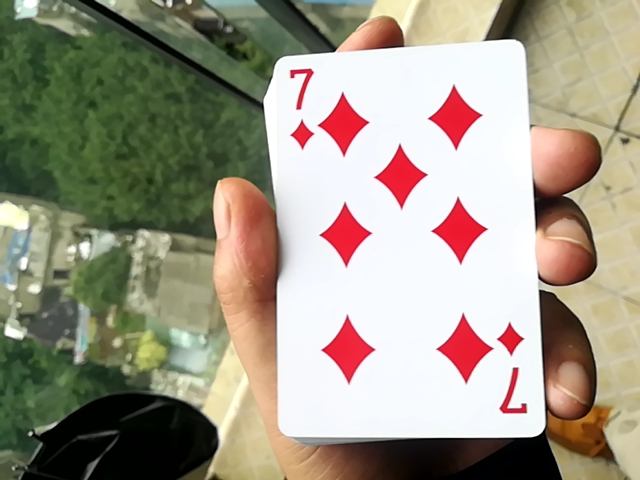fk 7: (246, 31, 544, 436)
